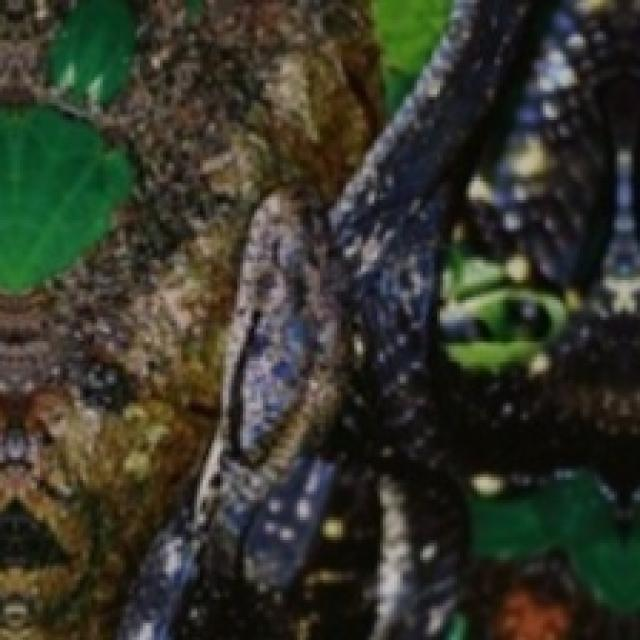dog-toothed cat snake: (117, 0, 637, 637)
